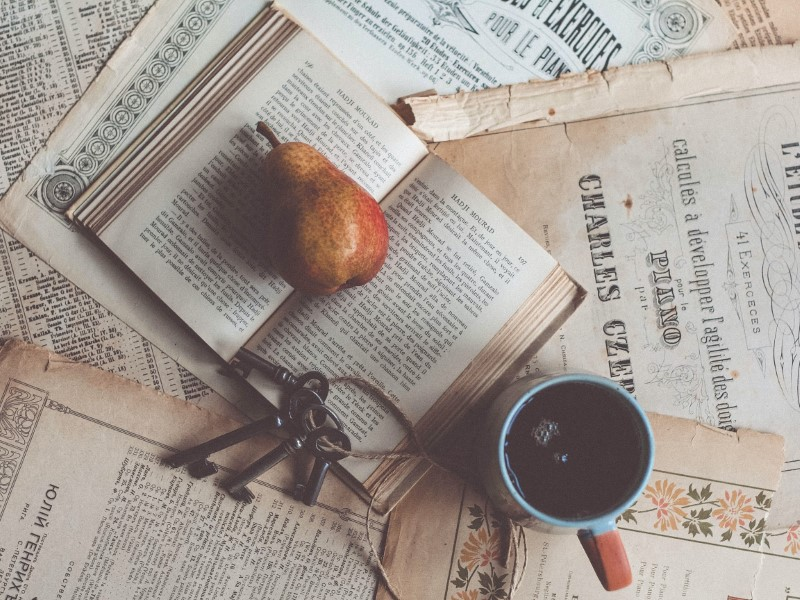key: (156, 344, 354, 508)
